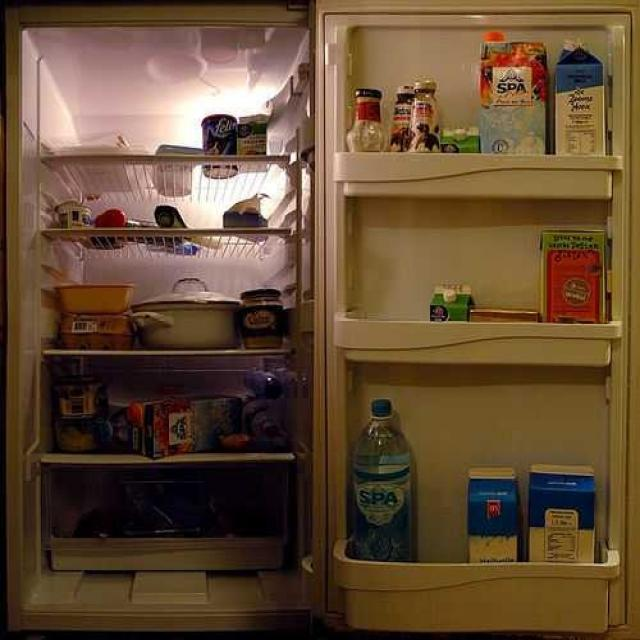refrigerator: (0, 0, 640, 603)
